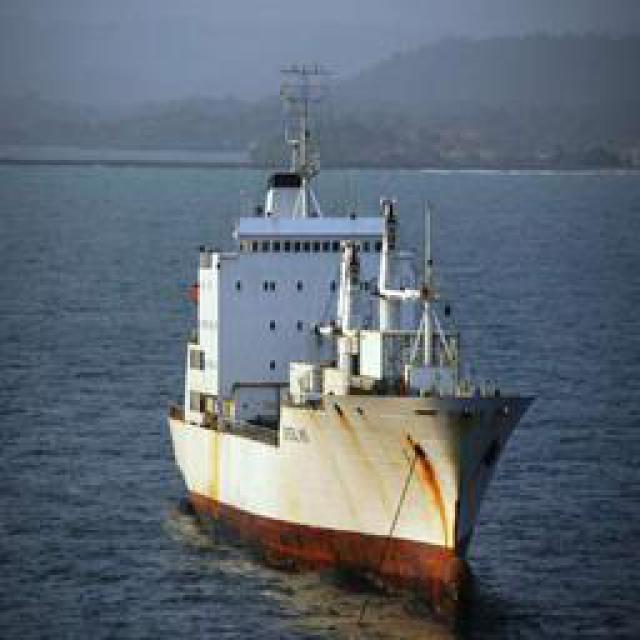Ship: (174, 74, 544, 599)
